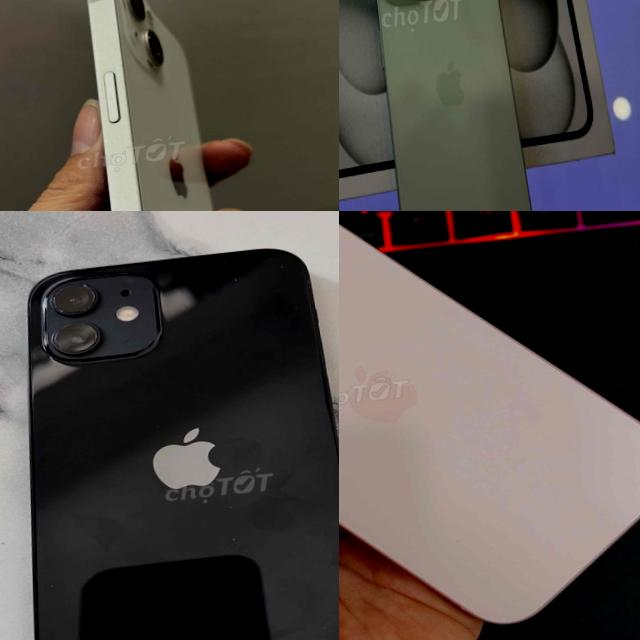gen_12_13: (26, 249, 339, 640), (77, 0, 256, 211)
gen_15: (339, 211, 640, 640), (360, 0, 544, 211)
